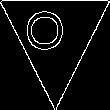O_E: (33, 15, 77, 58)
